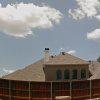Chimney: (38, 39, 54, 66)
